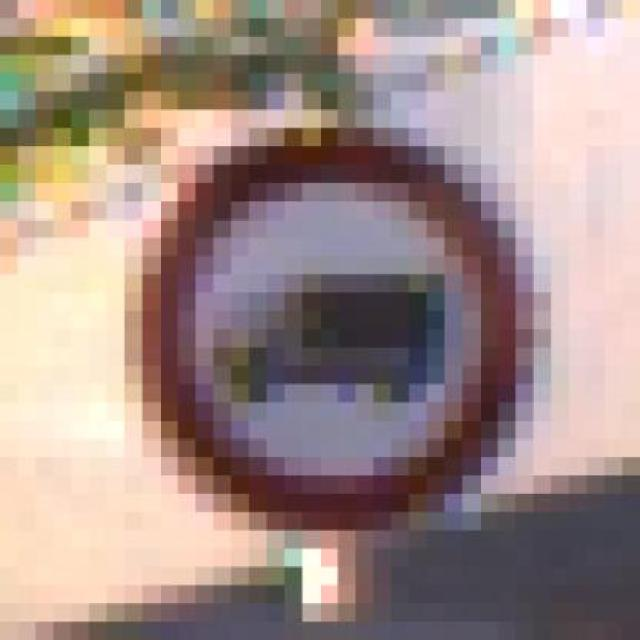Truck traffic is prohibited: (53, 110, 569, 567)
